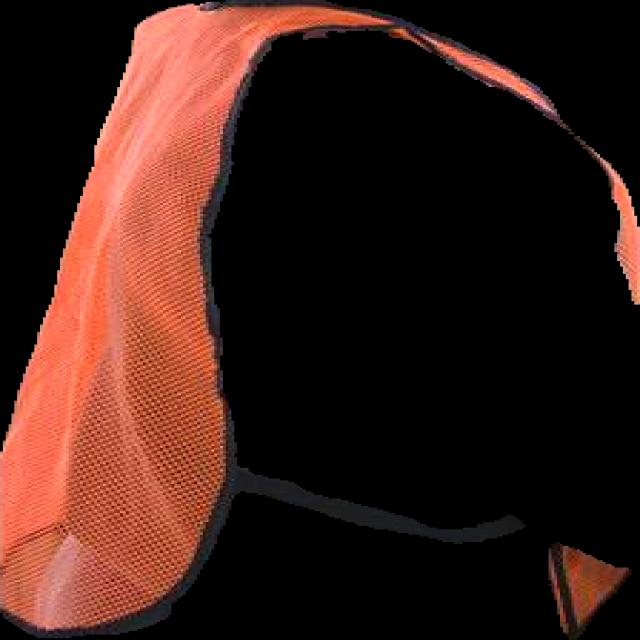Colete: (0, 0, 639, 638)
